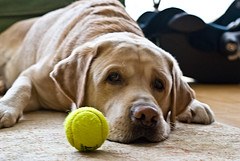tennis ball: (63, 105, 109, 153)
